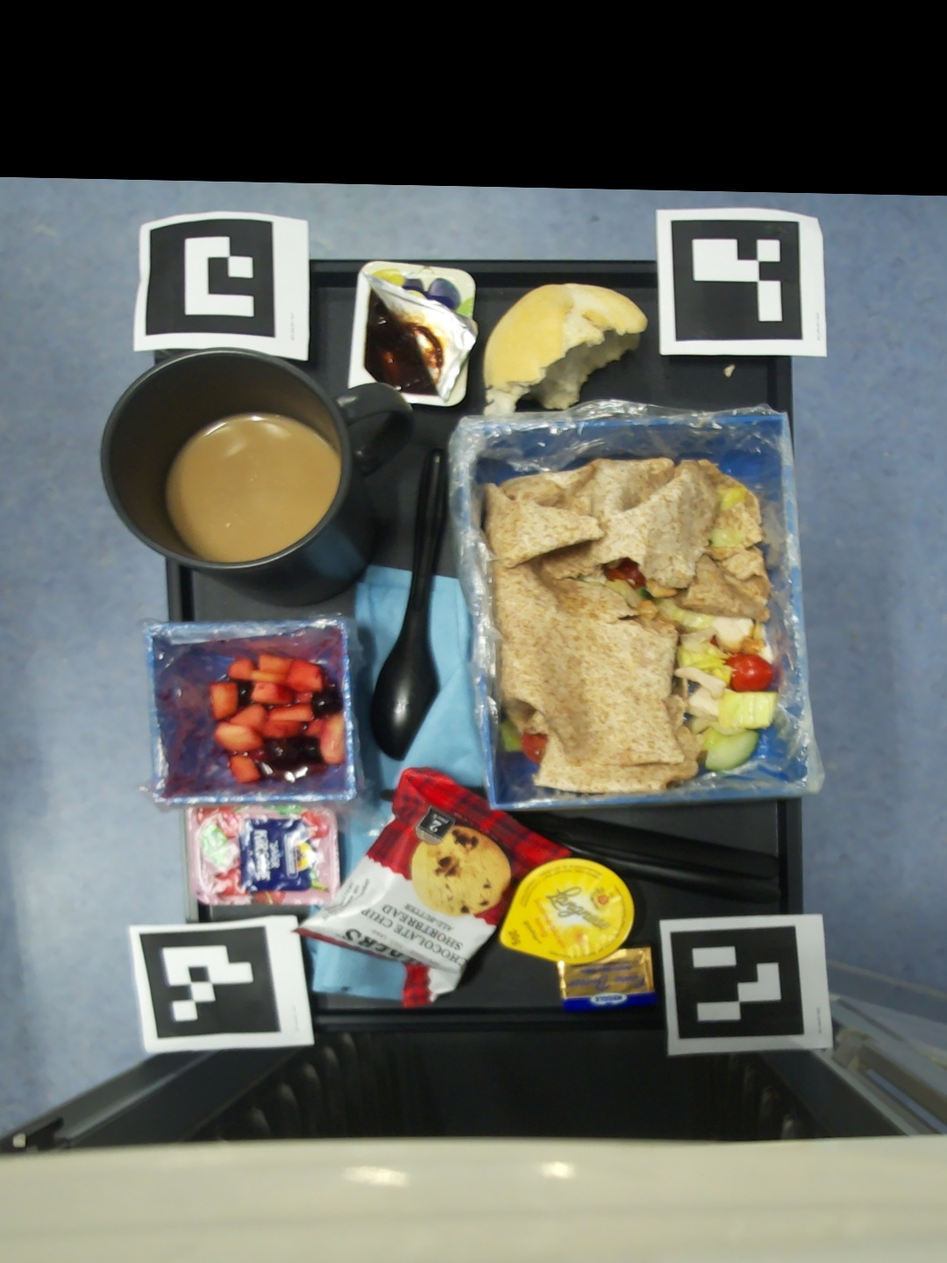bread_roll: (483, 283, 649, 415)
butter: (556, 946, 656, 1011)
cherry_jam: (185, 804, 340, 905)
coffee_cup: (101, 347, 412, 606)
cookie: (292, 766, 574, 1009)
fruit_salad: (210, 654, 344, 782)
honey: (500, 858, 635, 964)
plum_jam: (347, 260, 478, 406)
wrap_half_1: (484, 457, 761, 793)
wrap_half_2: (655, 546, 777, 771)
